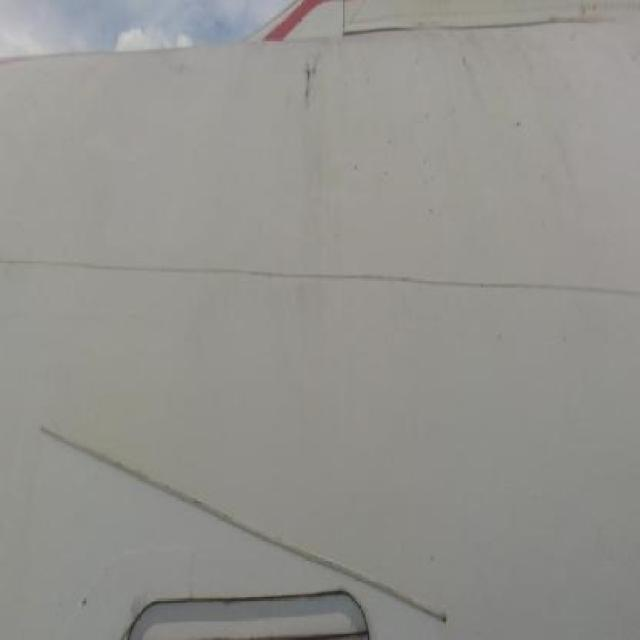Rust: (278, 48, 333, 104)
